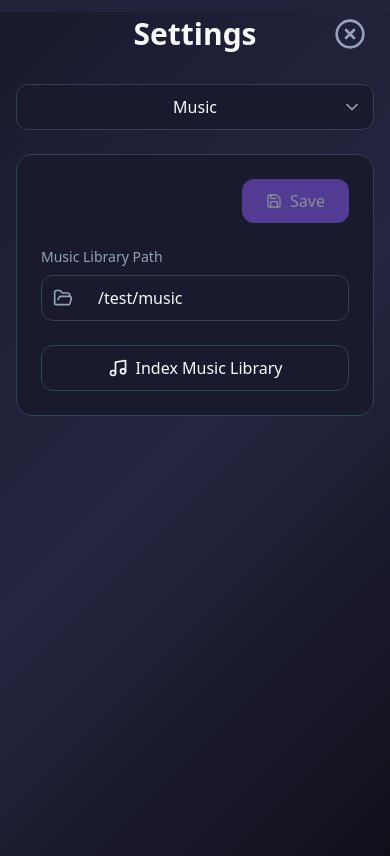
Test: ConfigScreen › shows BPM Jitter slider in Playlist tab
Select "Playlist" in the dropdown named "Select settings tab" at (195, 107), box 16,84 -> 374,130
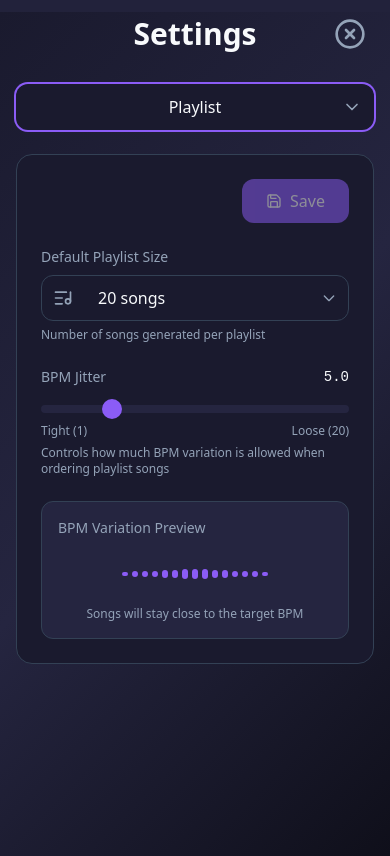
Now the slider labelled "BPM Jitter" is shown, box 41,405 -> 349,413
